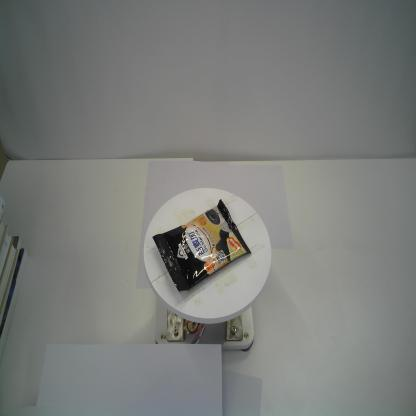Instant Drink: (152, 199, 252, 293)
